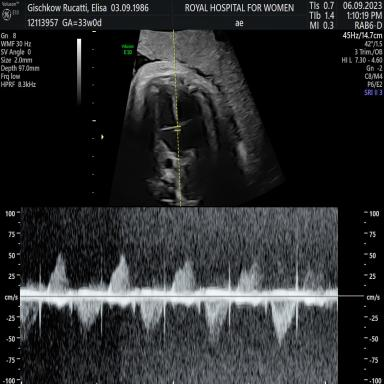Ultrasound-Waves: (27, 209, 336, 384)
